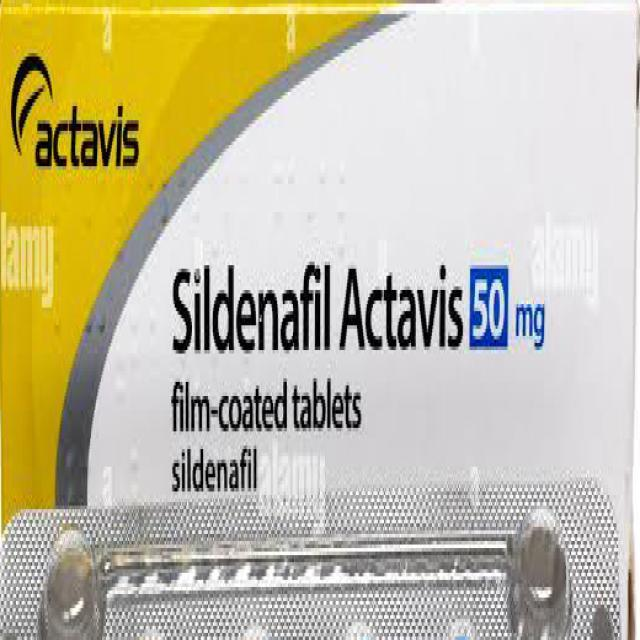drug-name: (169, 245, 468, 365)
